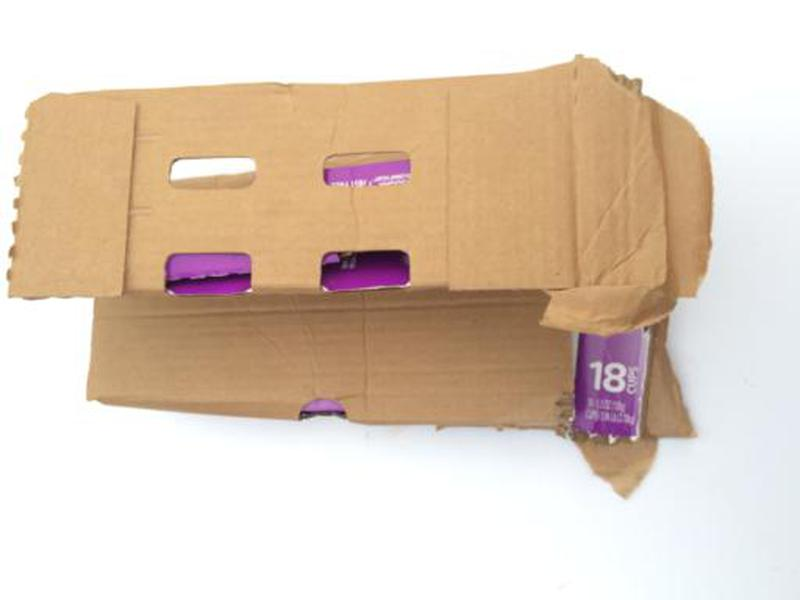cardboard: (9, 50, 717, 504)
